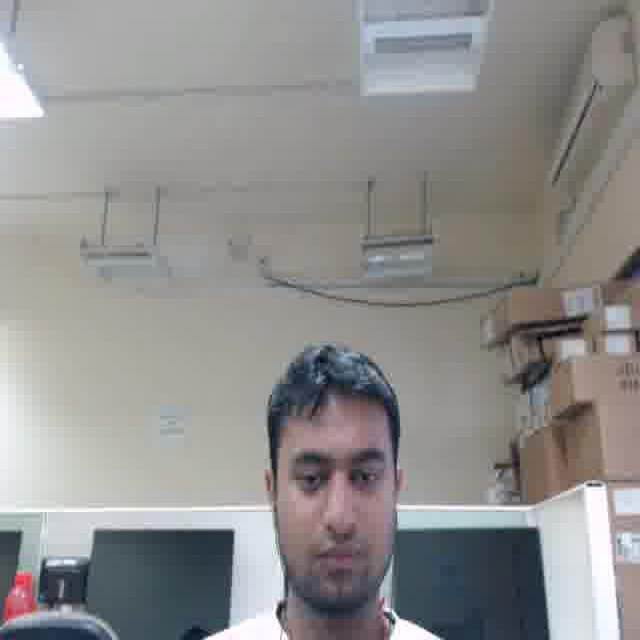Boredom: (272, 397, 393, 603)
